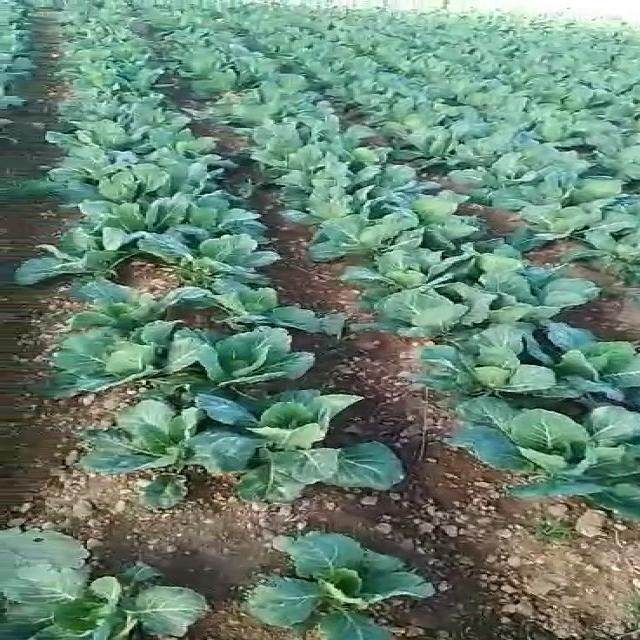Cabbage: (0, 521, 209, 640), (223, 388, 423, 506), (248, 534, 467, 640), (446, 401, 640, 516), (74, 402, 219, 499), (38, 322, 187, 388), (353, 250, 468, 333), (188, 278, 345, 337), (408, 324, 532, 396), (478, 254, 602, 320), (531, 328, 640, 402), (185, 328, 326, 384), (13, 228, 143, 282), (66, 274, 190, 323), (179, 233, 291, 282), (66, 190, 175, 227), (310, 213, 408, 253), (177, 192, 266, 232), (145, 158, 238, 196), (432, 212, 508, 253), (294, 182, 383, 213), (36, 118, 131, 143), (518, 203, 597, 233), (56, 162, 136, 191), (397, 186, 471, 215), (584, 222, 640, 258), (495, 181, 570, 207), (563, 171, 630, 200), (142, 133, 222, 156), (129, 107, 196, 134), (285, 162, 367, 184), (452, 159, 521, 185), (522, 147, 586, 175), (60, 144, 141, 164), (256, 142, 334, 162), (434, 139, 502, 161), (374, 164, 436, 188), (331, 143, 401, 164), (312, 120, 378, 142), (280, 97, 343, 119), (180, 68, 241, 89), (215, 103, 280, 122), (262, 74, 318, 96), (242, 121, 302, 140), (598, 194, 640, 221), (497, 124, 544, 147), (424, 102, 481, 120), (212, 90, 272, 106), (453, 118, 503, 137), (124, 88, 174, 106), (584, 124, 618, 150), (459, 79, 514, 95), (70, 100, 124, 116), (385, 111, 429, 130), (177, 50, 228, 66), (543, 110, 585, 129), (400, 128, 452, 143), (355, 93, 410, 107), (562, 83, 594, 107), (119, 70, 167, 86), (605, 100, 640, 121), (410, 82, 459, 97), (66, 72, 113, 87), (486, 94, 530, 110), (615, 148, 640, 174), (64, 88, 118, 100), (244, 59, 287, 74), (528, 98, 564, 114), (71, 59, 119, 71), (76, 45, 116, 59), (223, 44, 264, 57), (114, 58, 156, 70), (118, 44, 161, 55)
